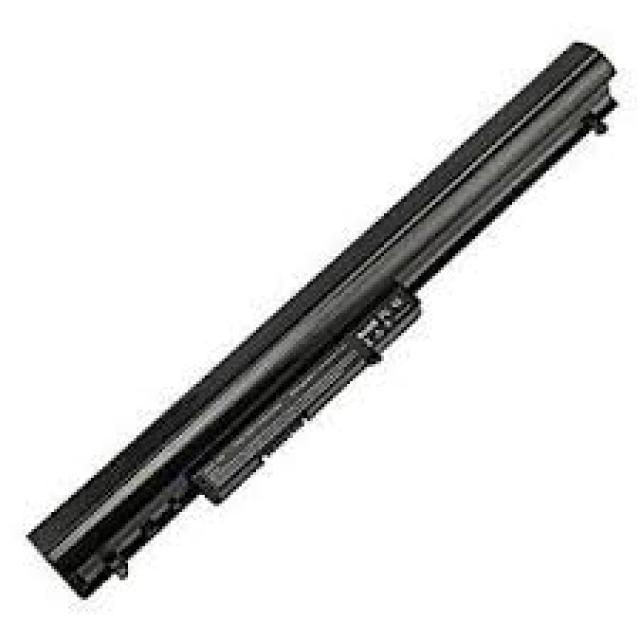Battery: (20, 7, 627, 614)
